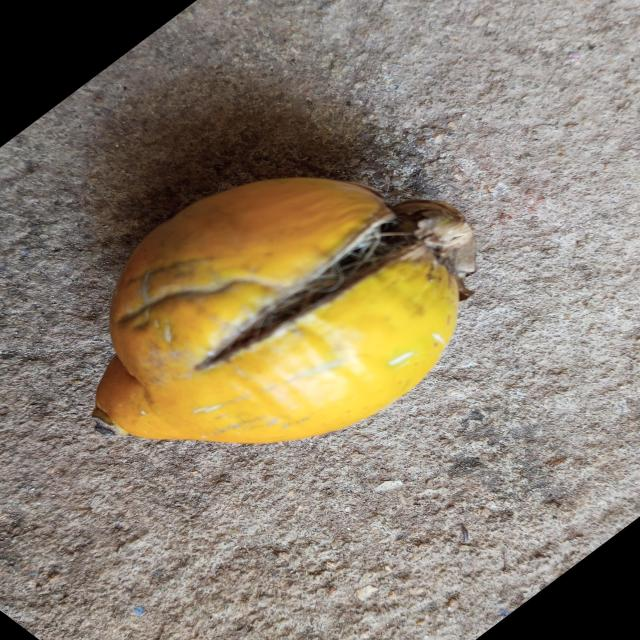damaged: (92, 178, 474, 448)
